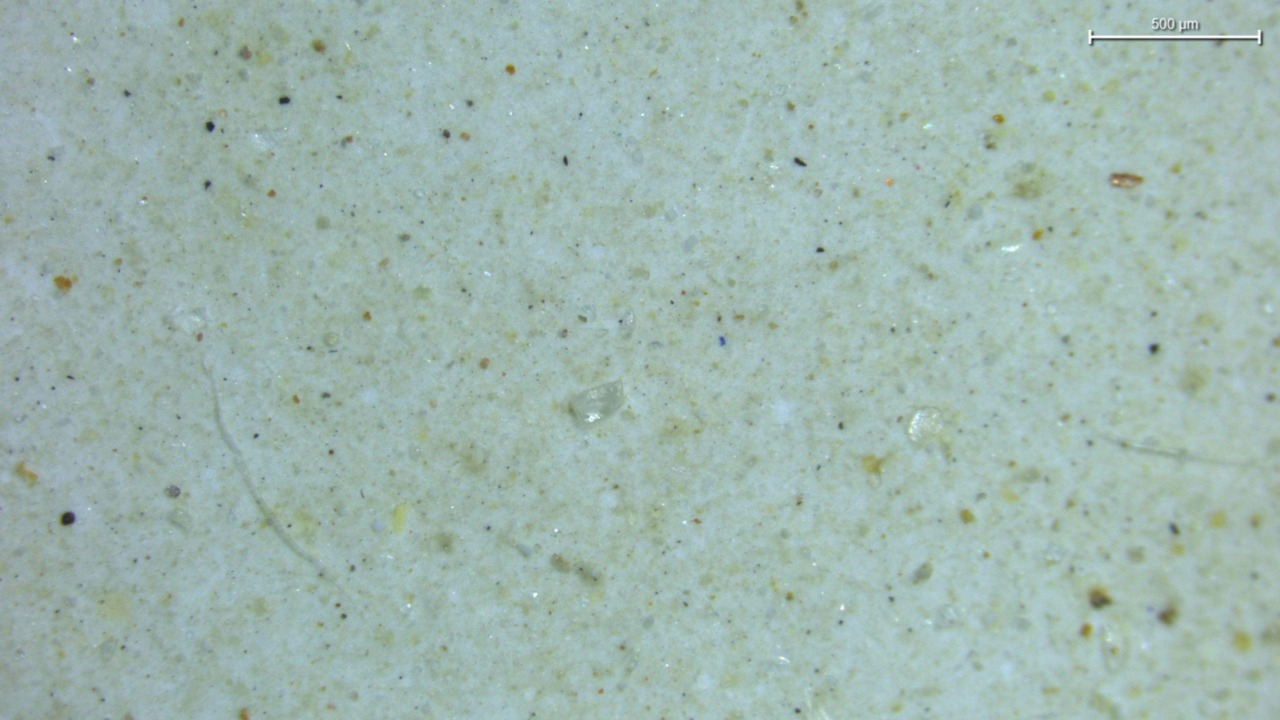microplastic_fragment: (568, 380, 626, 424), (907, 408, 944, 442)
